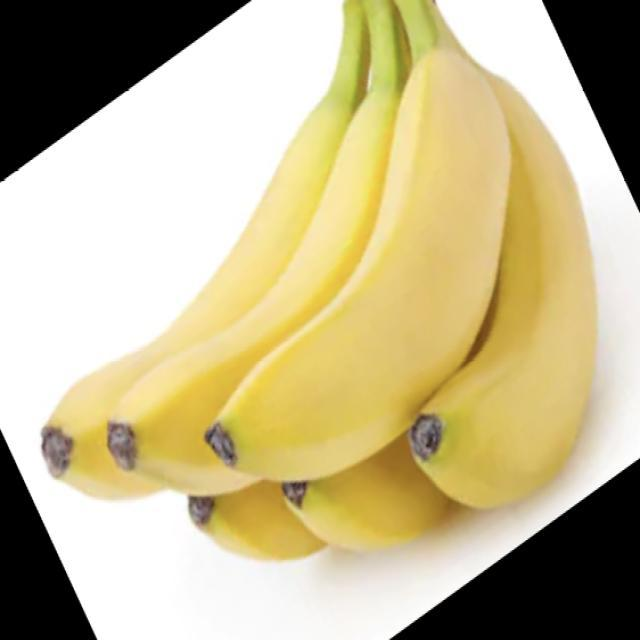Banana: (40, 0, 598, 563)
